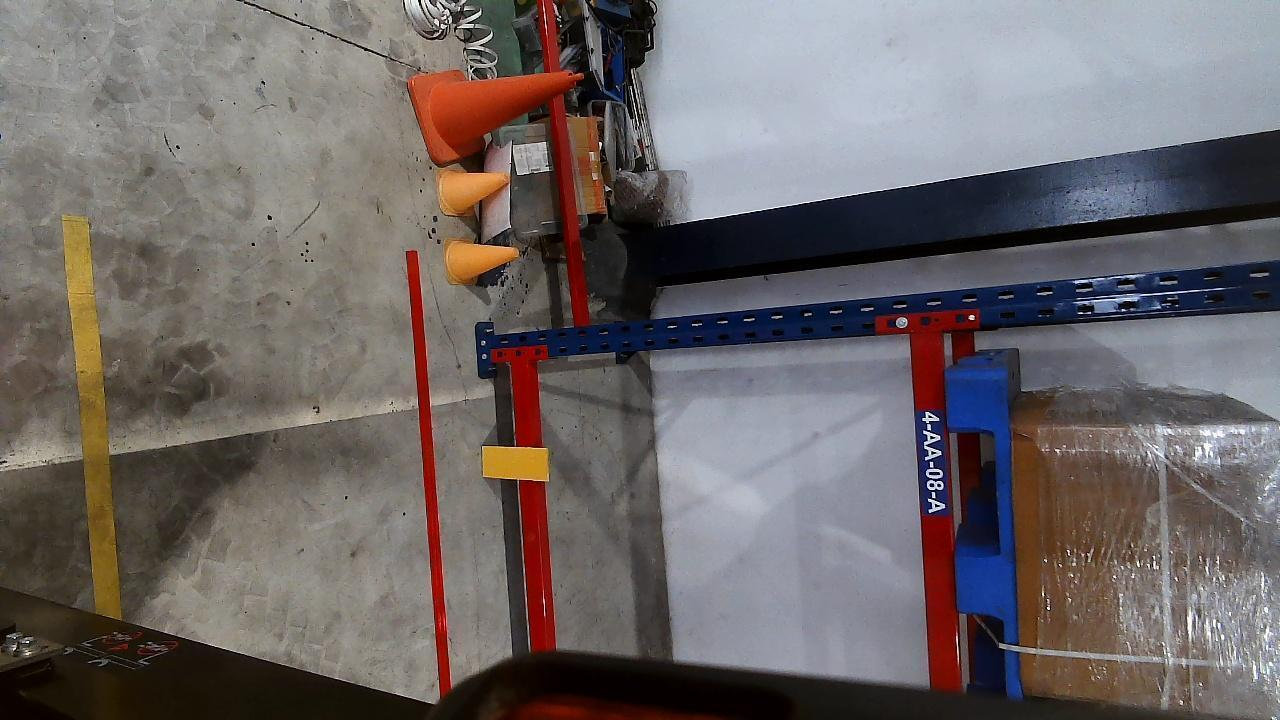red_line: (409, 251, 452, 693)
yellow_line: (58, 216, 119, 618)
